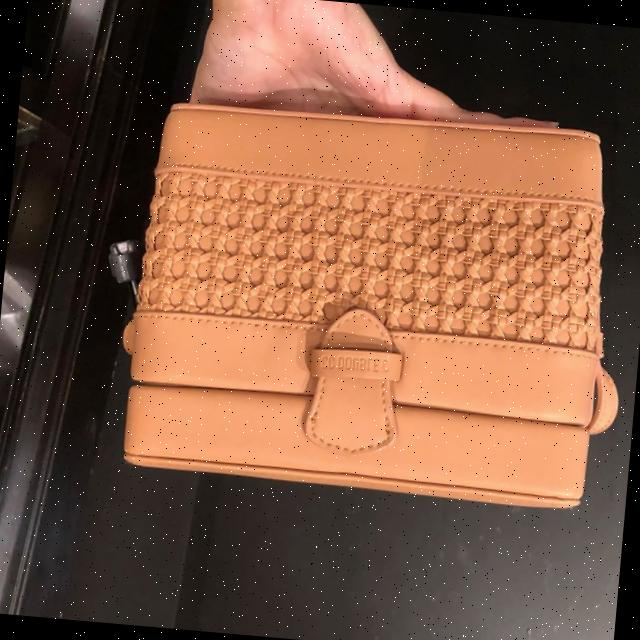Handbag: (111, 84, 619, 511)
